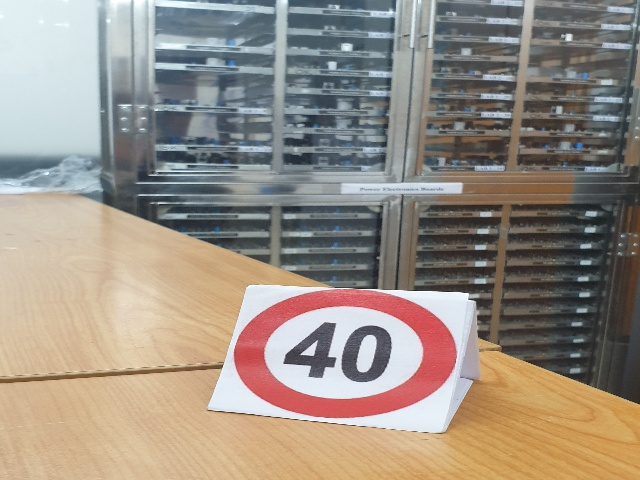Limit 40: (239, 289, 457, 419)
